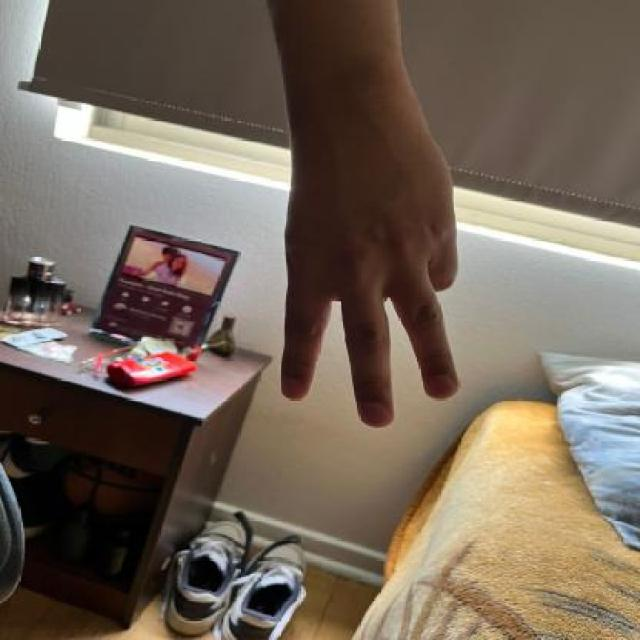M: (282, 124, 473, 427)
